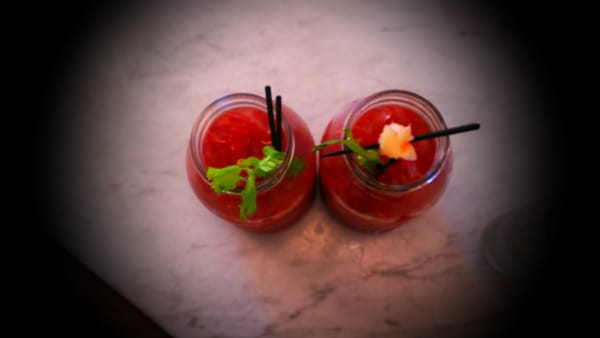steak: (313, 88, 478, 234)
